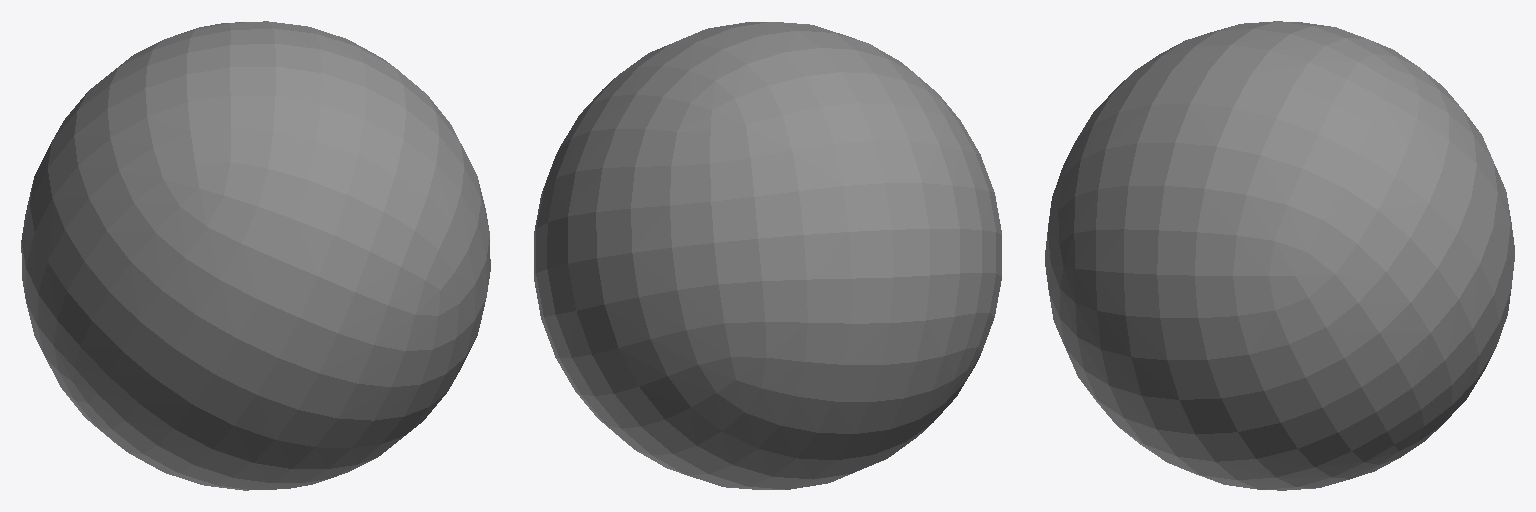
File: moon.obj
3 renders of one model, left to right at view 1: azimuth 30°, elevation 25°; view 2: azimuth 150°, elevation 25°; view 3: azimuth 270°, elevation 25°, orthographic.
Parts seen in each view (by area): view 1: Moon; view 2: Moon; view 3: Moon.
Boxes of the visible parts, x1,y1,x2,y2 form: Moon: [21, 21, 490, 490]; Moon: [534, 22, 1001, 489]; Moon: [1045, 21, 1514, 490].
Size of the model in its own units: 137 by 137 by 137.